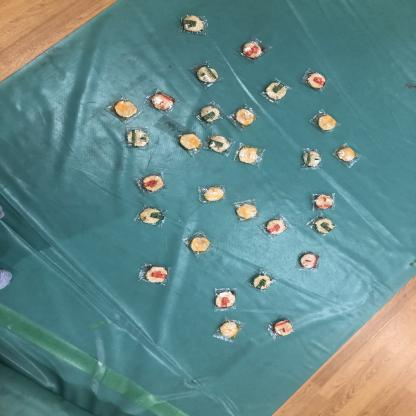green_setoshio: (260, 76, 293, 106), (189, 61, 223, 90), (176, 12, 212, 37), (136, 202, 168, 229), (248, 269, 279, 293), (206, 133, 236, 157), (307, 213, 338, 236), (196, 101, 224, 126), (298, 145, 324, 171), (125, 127, 152, 150)
red_setoshio: (132, 169, 170, 196), (137, 261, 175, 287), (237, 34, 271, 63), (300, 67, 332, 95), (207, 285, 240, 312), (146, 88, 178, 115), (261, 212, 293, 238), (267, 316, 299, 341), (295, 251, 324, 273), (310, 191, 337, 211)
yellow_setoshio: (108, 94, 144, 124), (305, 107, 343, 135), (235, 142, 267, 170), (214, 316, 245, 344), (228, 103, 260, 130), (331, 142, 363, 169), (184, 231, 216, 258), (174, 129, 204, 157), (198, 182, 228, 205), (233, 199, 261, 223)
